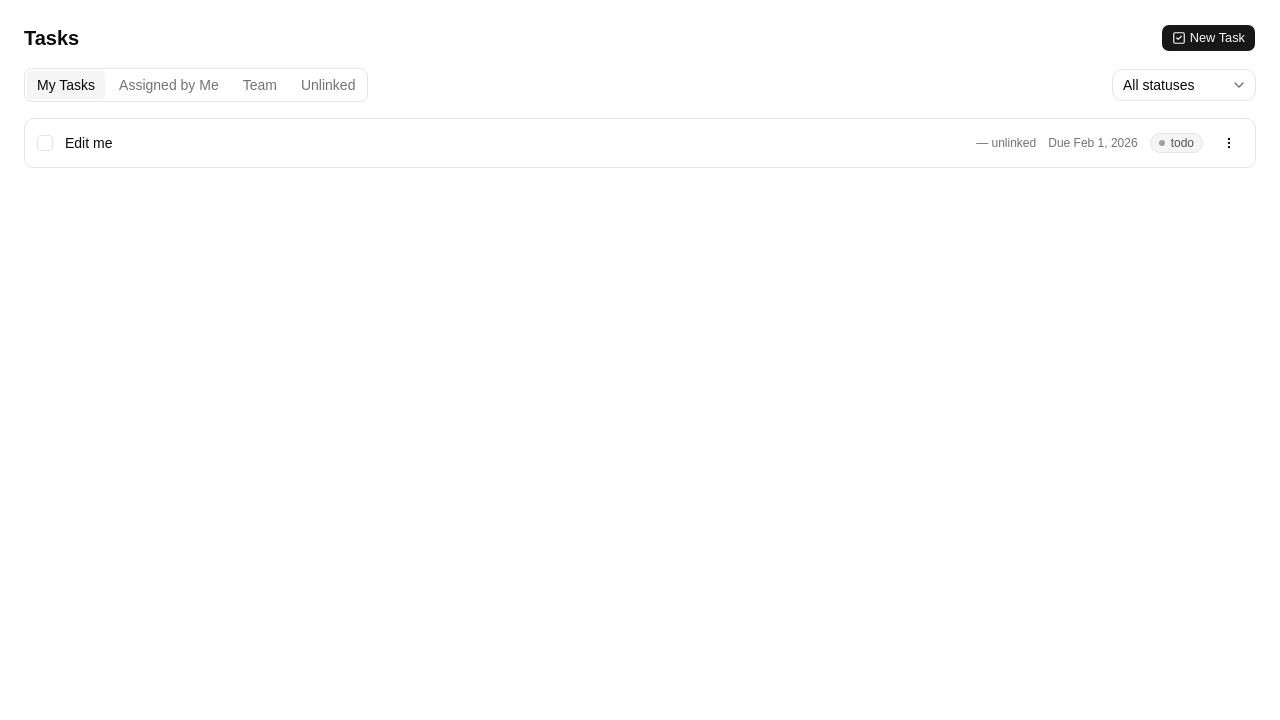
Test case: TasksHomePage › opens the edit sheet for a writable task via the row menu
Expected: the text "Edit me" is shown, [65,135,112,151]
Click the 6th button at (1229, 143), box [1215,129,1243,157]
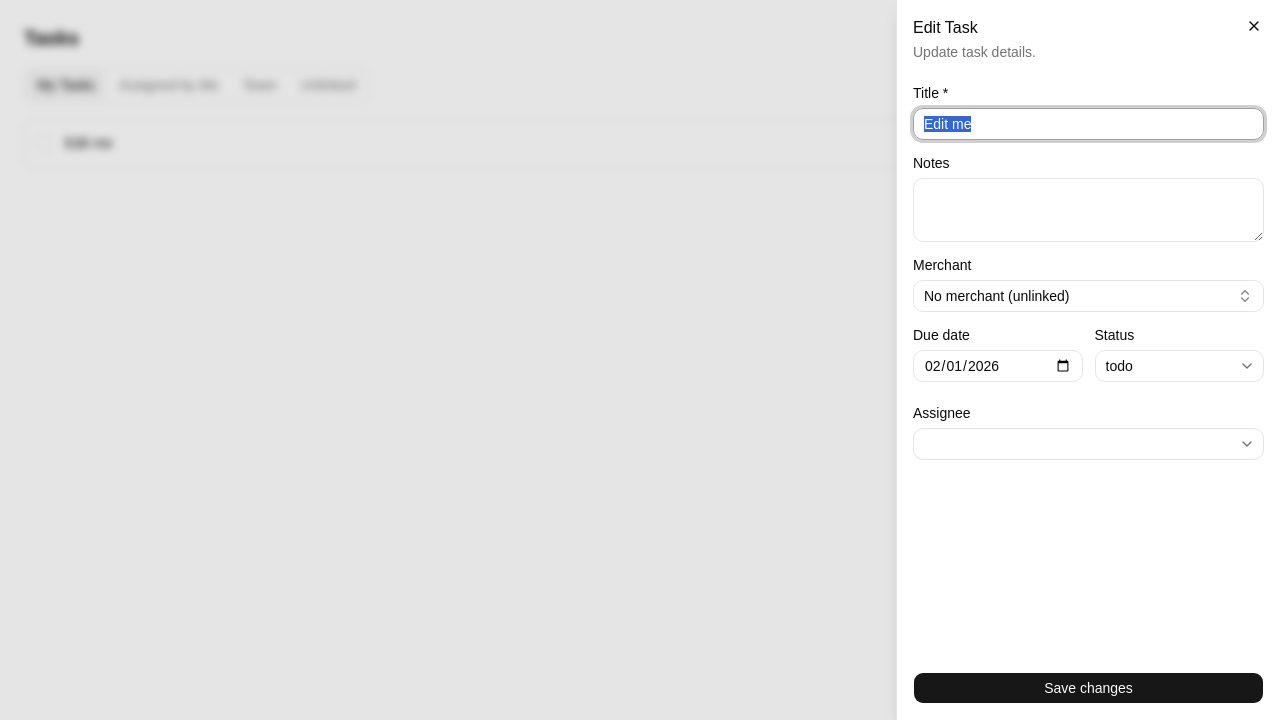
Now the heading "Edit Task" is shown, box [913,19,978,36]
